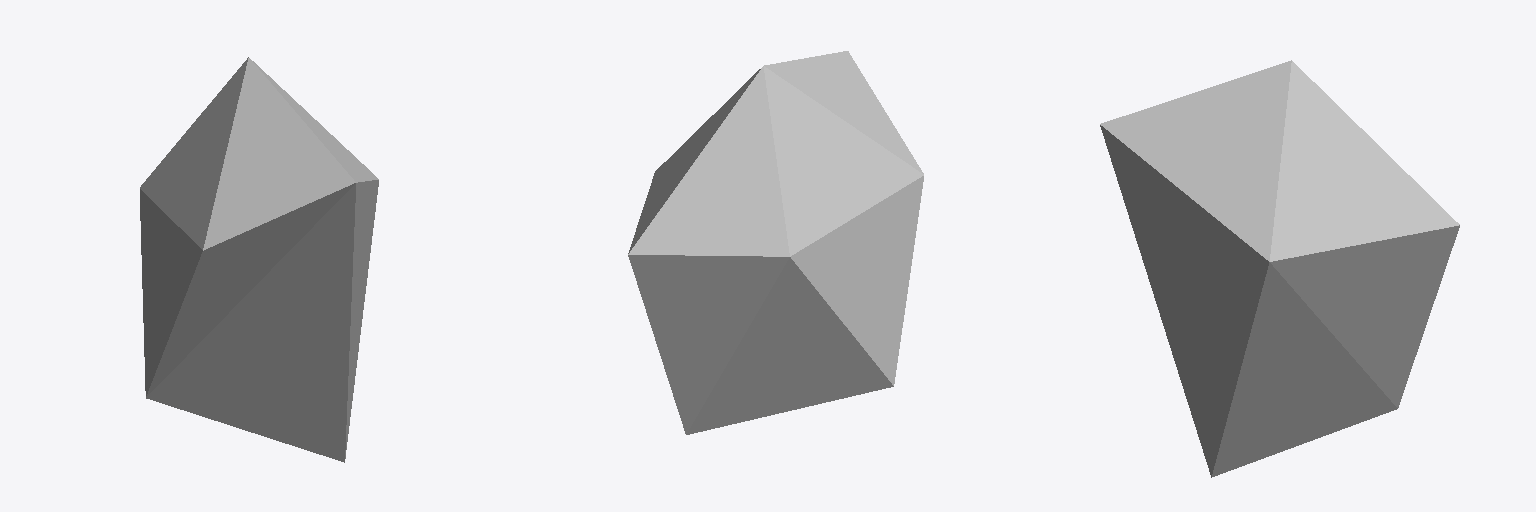
File: icicle_shard_1.obj
The picture shows the model from 3 angles: view 1: azimuth 30°, elevation 25°; view 2: azimuth 150°, elevation 25°; view 3: azimuth 270°, elevation 25°; orthographic projection.
Visible parts, largest first — view 1: Icosphere; view 2: Icosphere; view 3: Icosphere.
Part boxes in pixels (left/top/right/bottom): Icosphere: left=140, top=57, right=378, bottom=462; Icosphere: left=628, top=51, right=923, bottom=434; Icosphere: left=1100, top=60, right=1459, bottom=477.
Size of the model in its own units: 2.03 by 3.21 by 2.69.